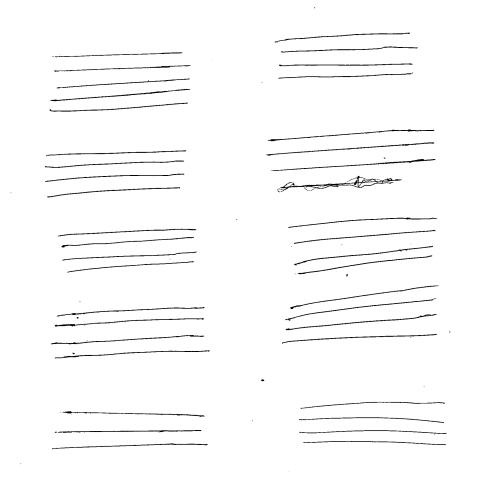Paragraph: (280, 283, 439, 346), (48, 52, 192, 113), (53, 306, 209, 362), (289, 217, 439, 275), (269, 129, 438, 174), (275, 33, 420, 82), (298, 402, 451, 446), (45, 152, 186, 199), (58, 228, 198, 275), (50, 412, 208, 452)
